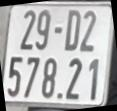-: (55, 27, 62, 33)
.: (56, 94, 62, 98)
1: (89, 58, 98, 101)
2: (21, 11, 34, 49), (67, 58, 79, 99), (81, 11, 93, 51)
5: (9, 57, 21, 97)
7: (25, 57, 39, 97)
8: (43, 58, 54, 98)
9: (37, 11, 50, 48)
D: (66, 10, 79, 51)
